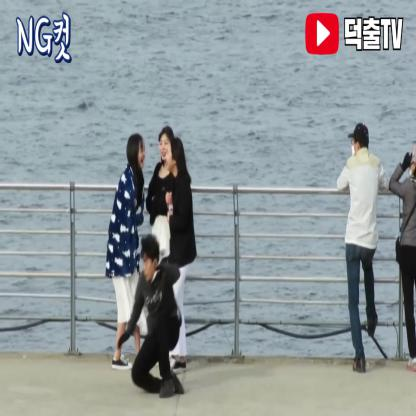Fall_Down: (117, 234, 186, 400)
